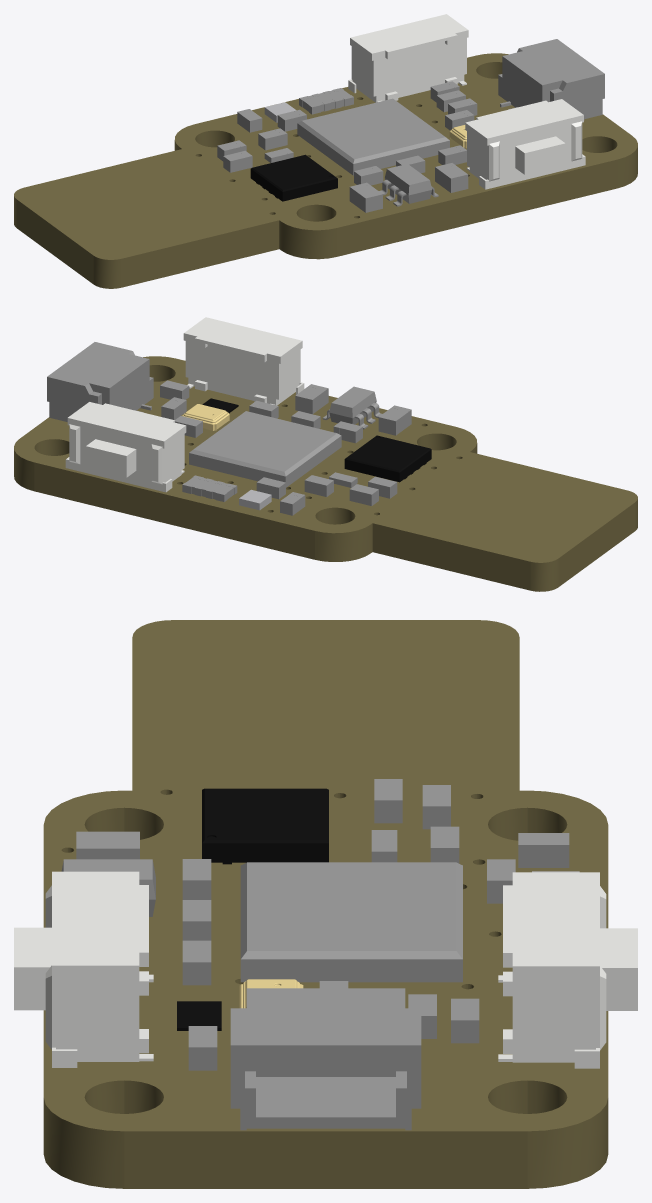
File: ada-5056.glb
3 renders of one model, top to bottom at view 1: azimuth 30°, elevation 25°; view 2: azimuth 150°, elevation 25°; view 3: azimuth 270°, elevation 25°, orthographic. The views are drawn at different scales.
Visible parts, largest first — view 1: 0.16666666666666666_0.16666666666666666_0.08333333333333333_, 0.3333333333333333_0.3333333333333333_0.3333333333333333_0, 0.9166666666666666_0.9166666666666666_0.9166666666666666_0.8, 0_0_0_0; view 2: 0.16666666666666666_0.16666666666666666_0.08333333333333333_, 0.3333333333333333_0.3333333333333333_0.3333333333333333_0, 0.9166666666666666_0.9166666666666666_0.9166666666666666_0.8, 0_0_0_0, 0.9166666666666666_0.75_0.3333333333333333_0.9, 0.5833333333333334_0.5833333333333334_0.5833333333333334_0.8; view 3: 0.16666666666666666_0.16666666666666666_0.08333333333333333_, 0.3333333333333333_0.3333333333333333_0.3333333333333333_0, 0.9166666666666666_0.9166666666666666_0.9166666666666666_0.8, 0_0_0_0.
Boxes of the visible parts, bbox=[...] form: 0.16666666666666666_0.16666666666666666_0.08333333333333333_: bbox=[14, 53, 637, 288]; 0.3333333333333333_0.3333333333333333_0.3333333333333333_0: bbox=[217, 39, 604, 212]; 0.9166666666666666_0.9166666666666666_0.9166666666666666_0.8: bbox=[348, 14, 585, 189]; 0_0_0_0: bbox=[250, 154, 337, 201]; 0.16666666666666666_0.16666666666666666_0.08333333333333333_: bbox=[14, 356, 637, 591]; 0.3333333333333333_0.3333333333333333_0.3333333333333333_0: bbox=[47, 342, 411, 515]; 0.9166666666666666_0.9166666666666666_0.9166666666666666_0.8: bbox=[65, 317, 304, 492]; 0_0_0_0: bbox=[202, 398, 431, 482]; 0.9166666666666666_0.75_0.3333333333333333_0.9: bbox=[182, 404, 229, 430]; 0.5833333333333334_0.5833333333333334_0.5833333333333334_0.8: bbox=[239, 489, 271, 510]; 0.16666666666666666_0.16666666666666666_0.08333333333333333_: bbox=[43, 620, 608, 1188]; 0.3333333333333333_0.3333333333333333_0.3333333333333333_0: bbox=[61, 779, 569, 1130]; 0.9166666666666666_0.9166666666666666_0.9166666666666666_0.8: bbox=[14, 871, 637, 1068]; 0_0_0_0: bbox=[177, 788, 328, 1030].
Size of the model in its own units: 3.81 by 0.55 by 1.97.
